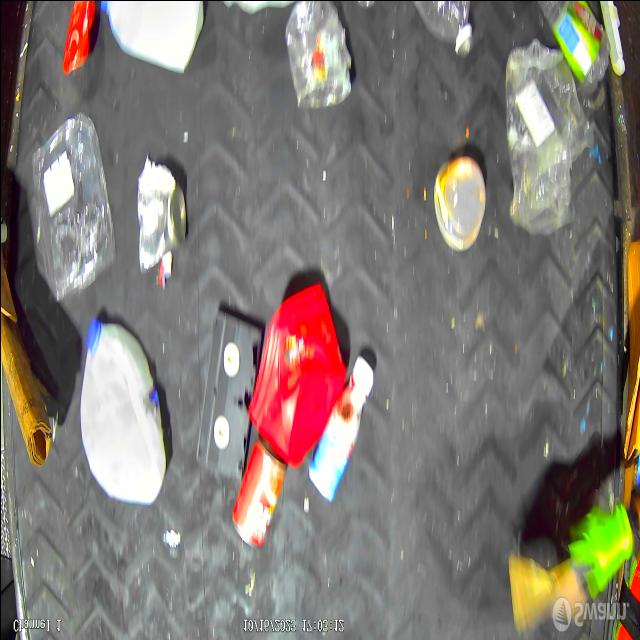can: (230, 443, 288, 555), (138, 156, 182, 272)
milk_jug: (79, 312, 164, 502), (92, 0, 202, 75)
plastic_bottle: (538, 0, 604, 95)
